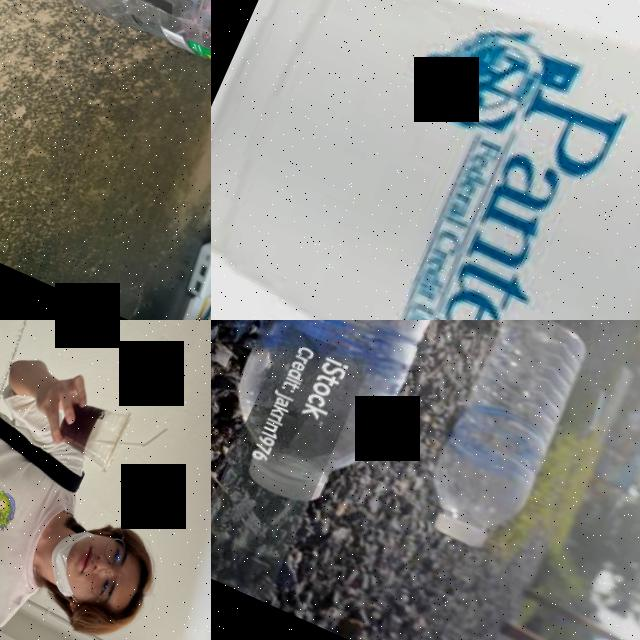bottle: (211, 320, 511, 524), (402, 320, 596, 566), (0, 0, 211, 225)
cup: (211, 0, 640, 320), (48, 388, 136, 476)
